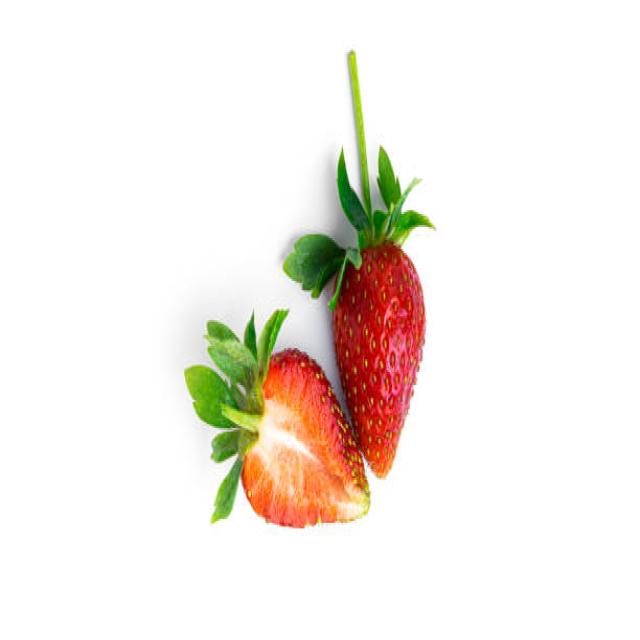Healthy Fruit: (330, 243, 426, 480)
